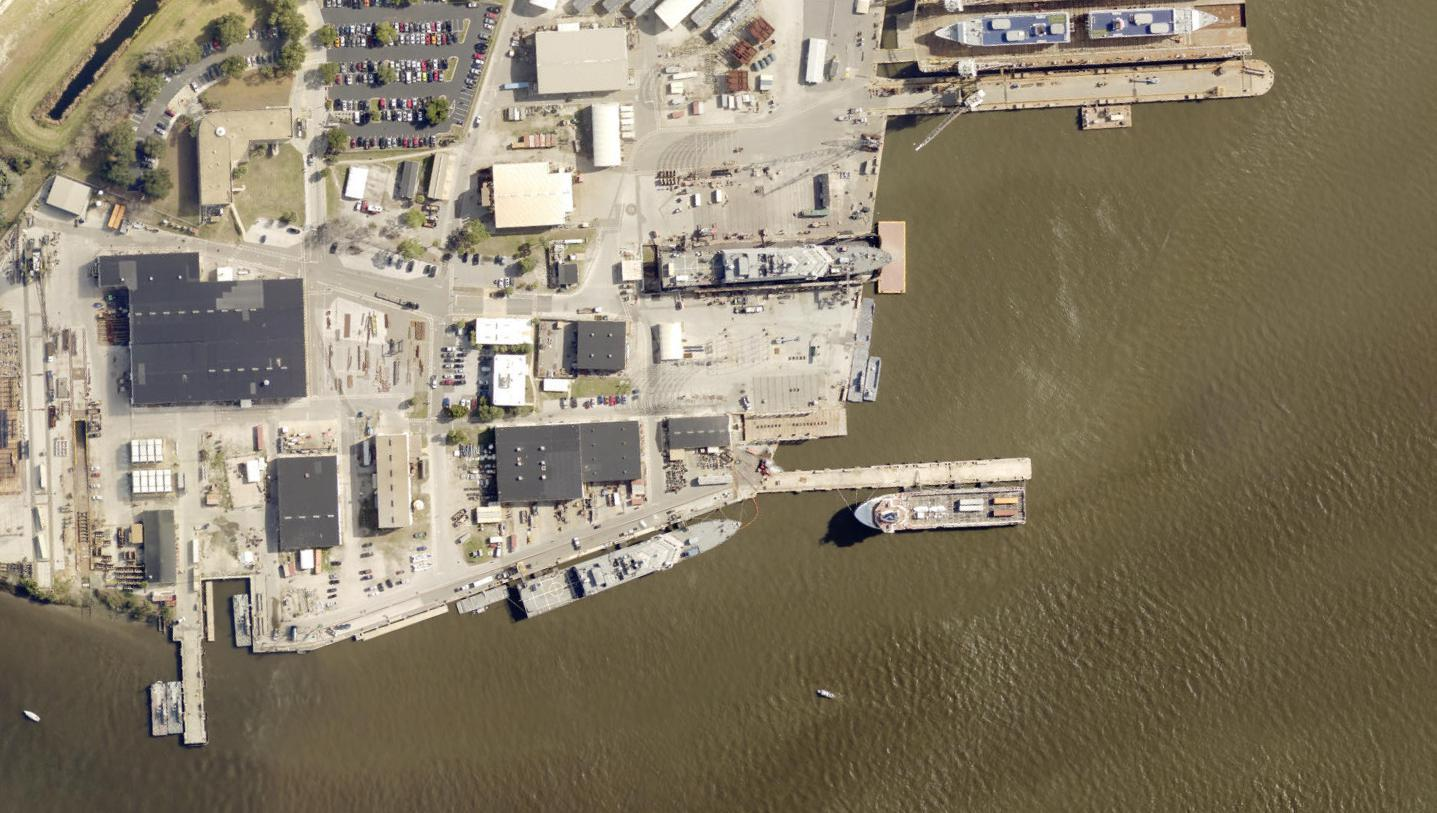patrol: (501, 501, 749, 636), (654, 233, 898, 296)
